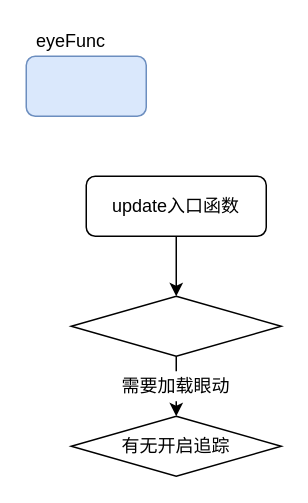
The diagram is 308 pixels wide and 503 high, and some of its shapes have lost their labels. Here are the shapes that lost their labels. From the top down, the box of each, then its label:
(25, 55, 146, 116): initialize
(70, 295, 281, 356): isStart加载眼动
